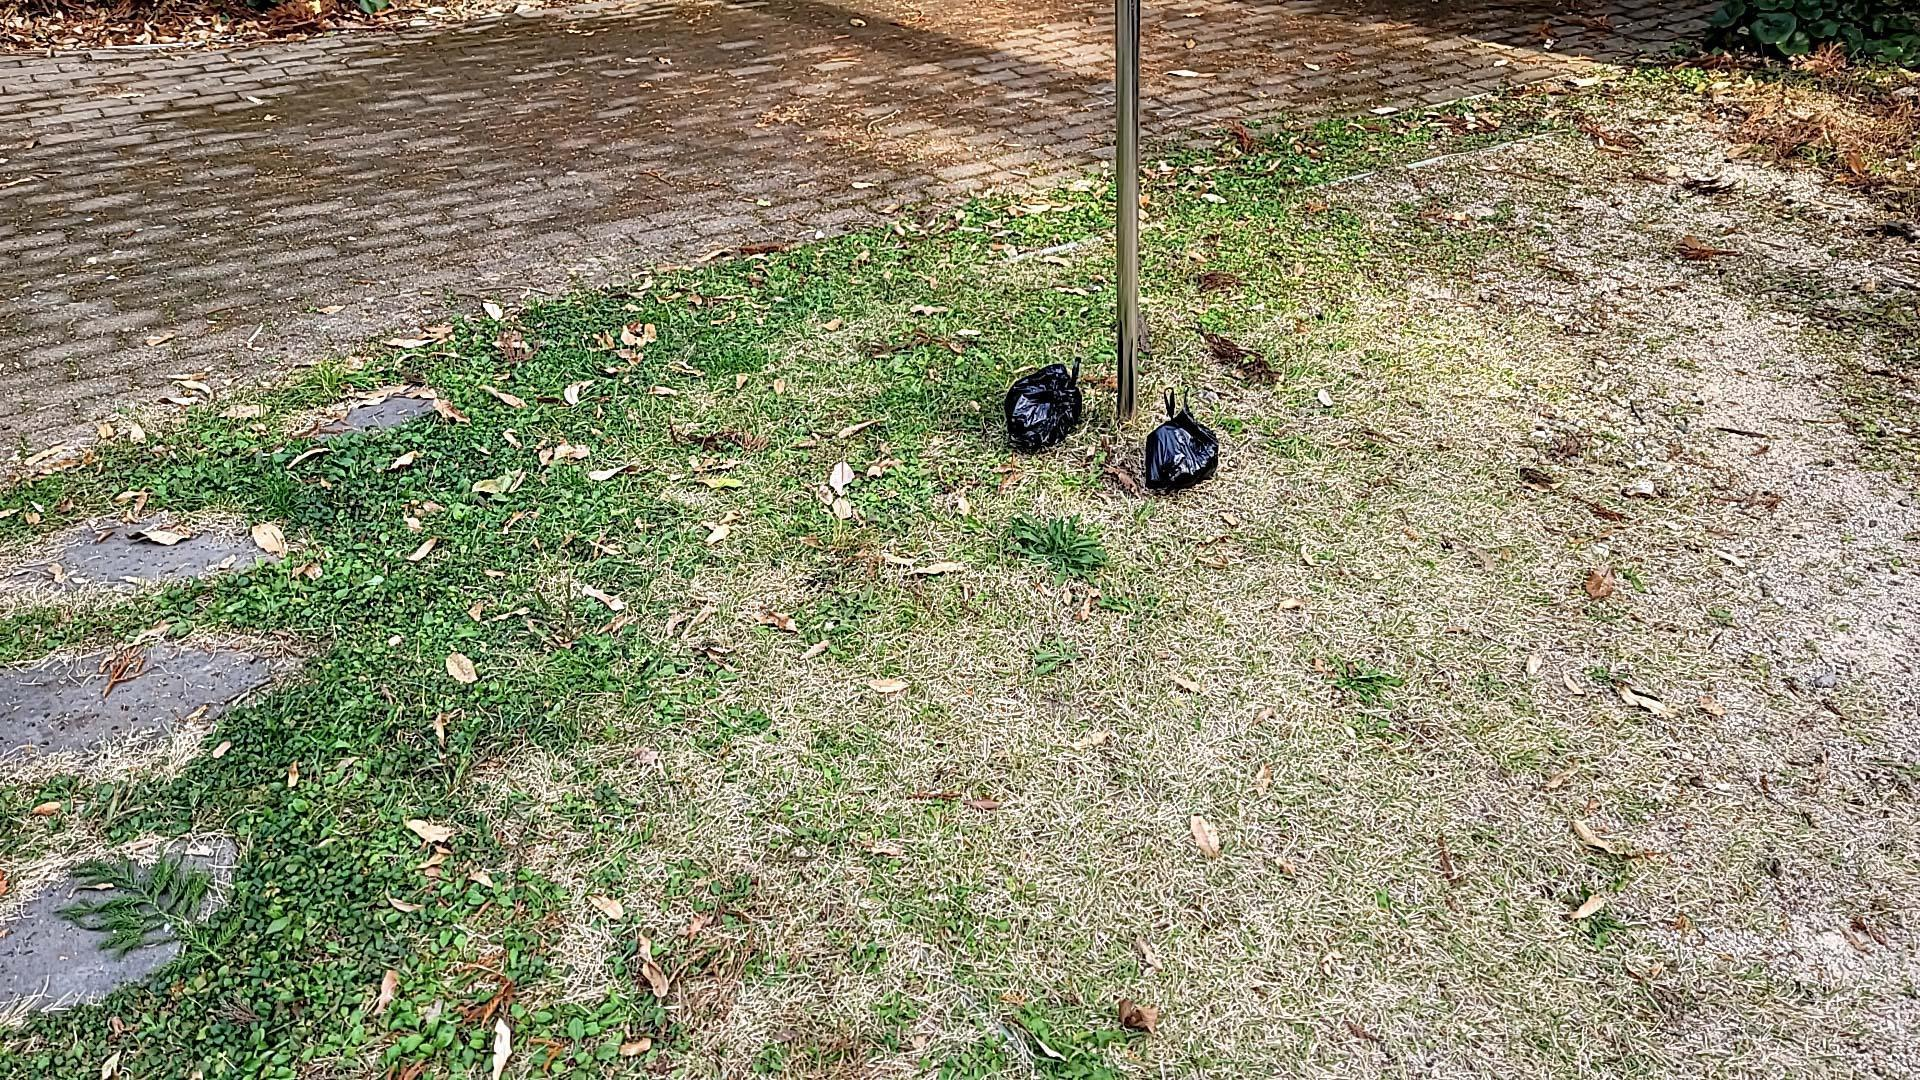black_bag: (1131, 381, 1232, 505), (996, 360, 1093, 462)
